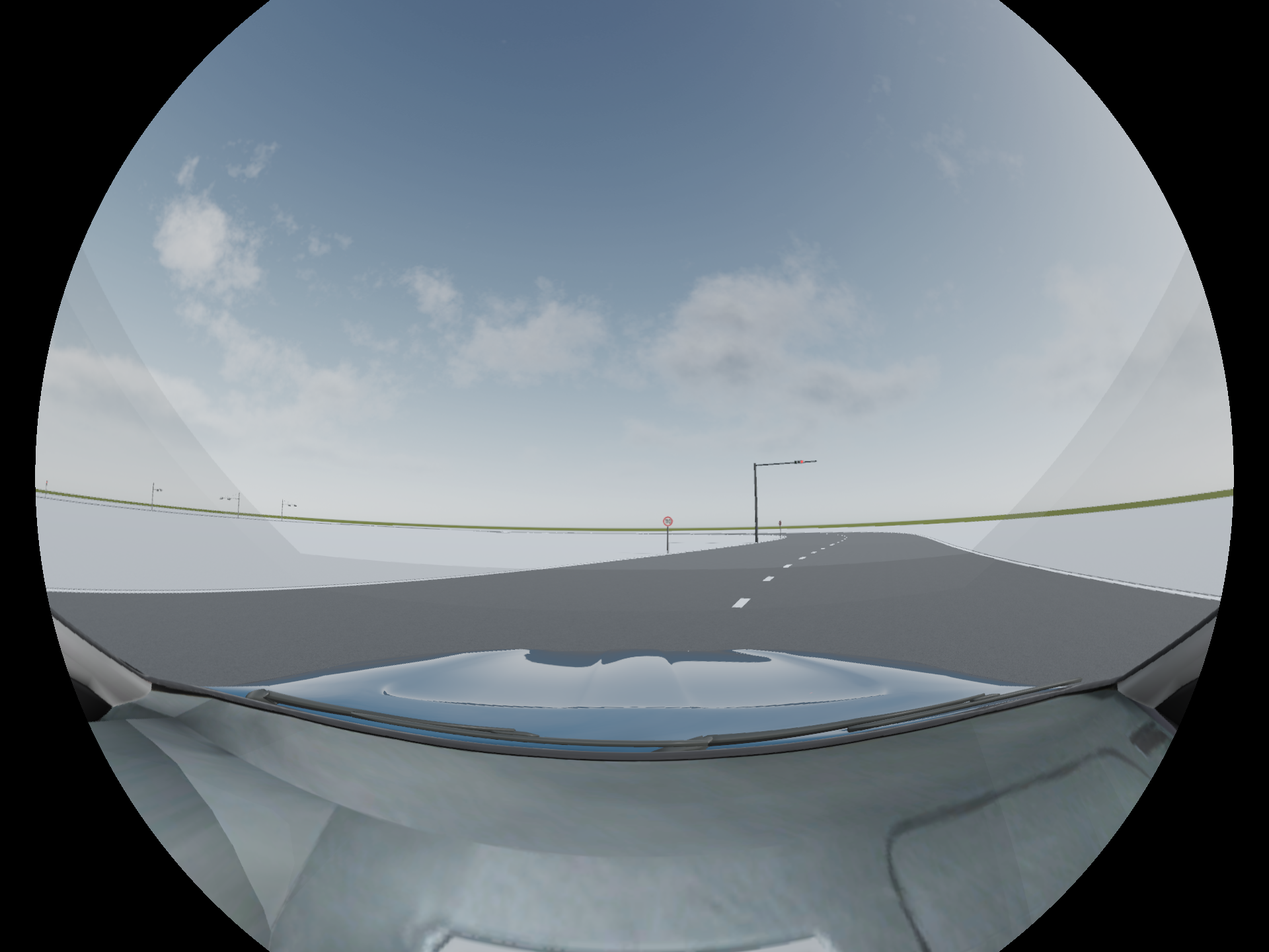Red Light: (794, 460, 805, 464)
Speed Limit 110: (663, 516, 673, 527)
